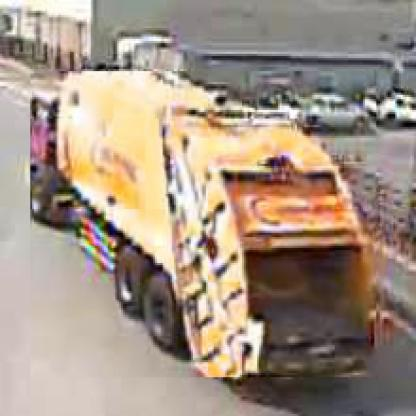truck: (31, 72, 379, 380)
